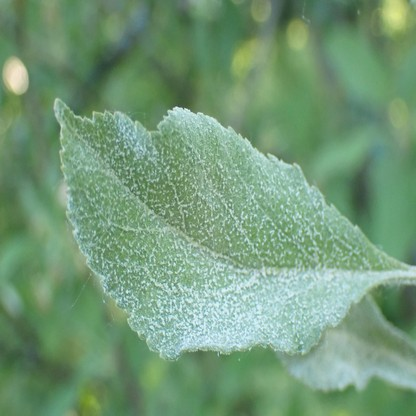powder: (53, 97, 409, 362), (278, 296, 416, 393)
